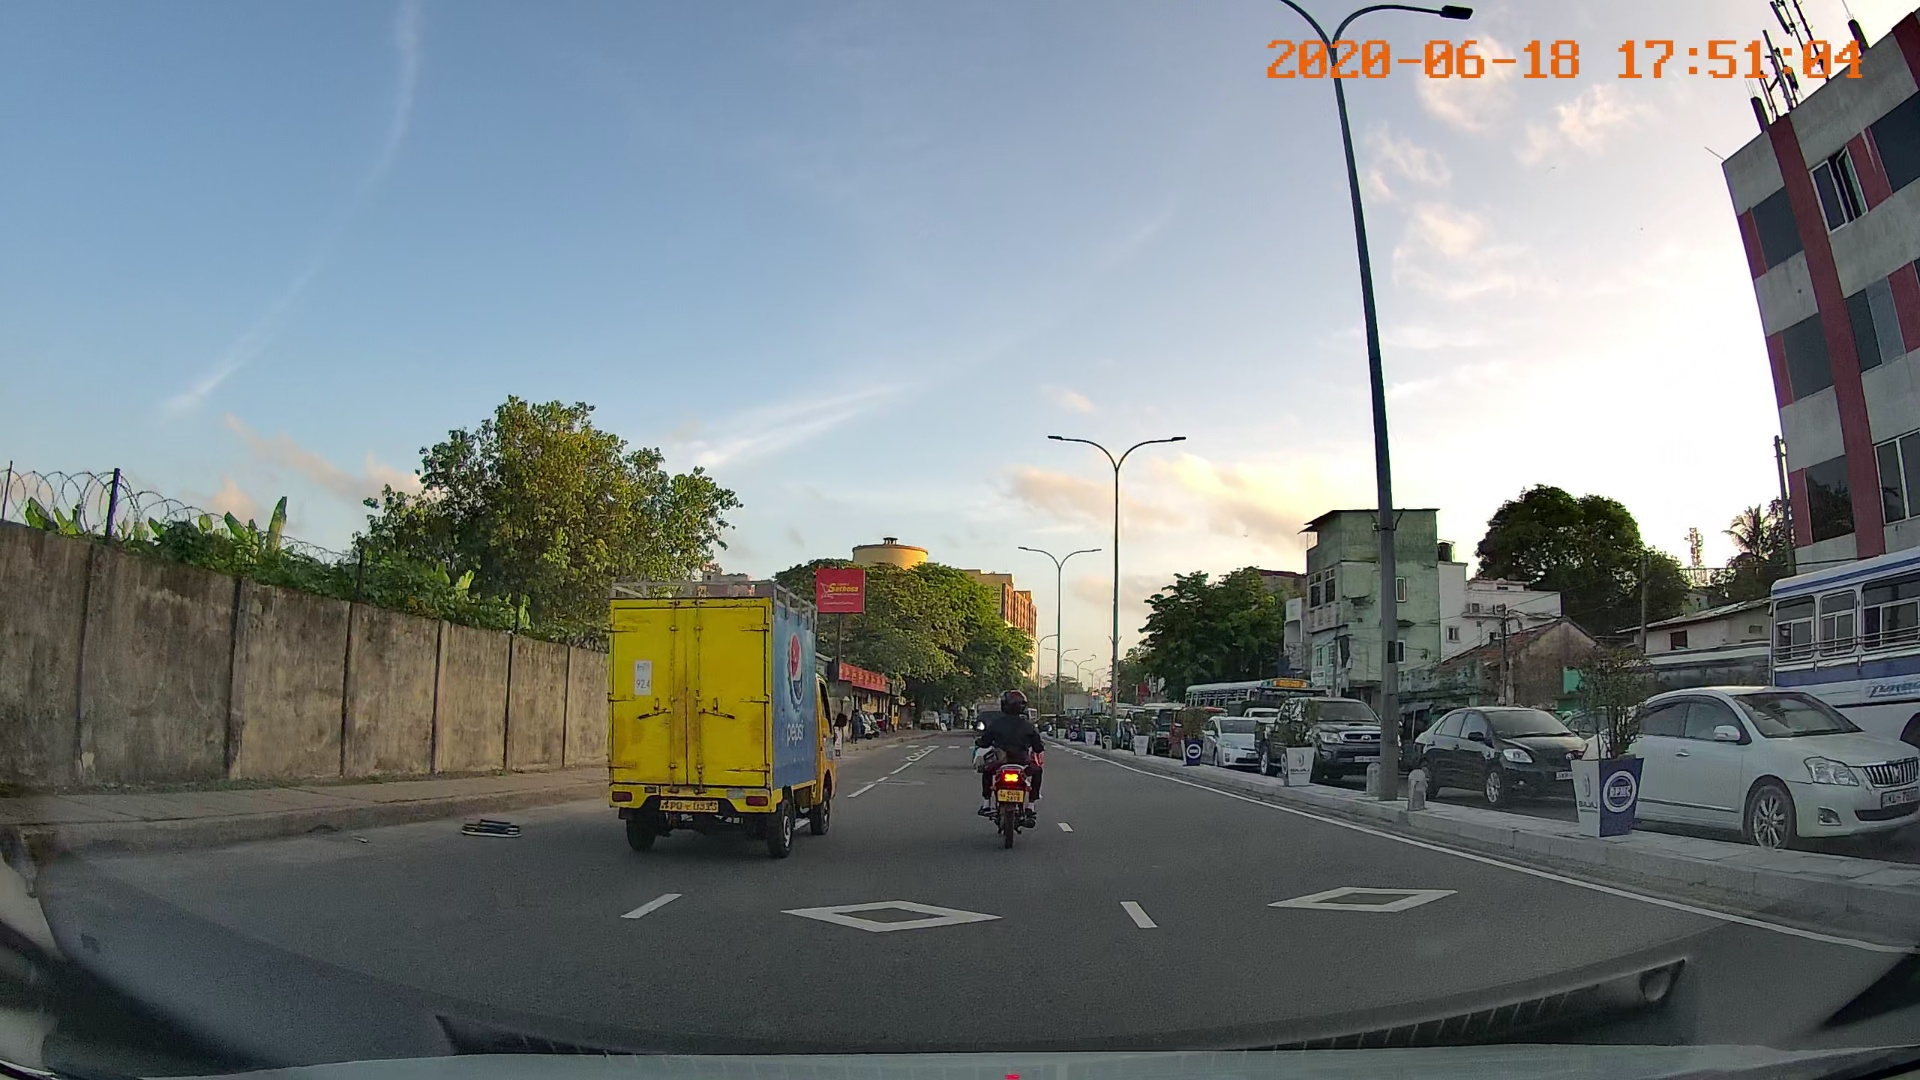diamond: (781, 880, 1013, 943), (1262, 880, 1472, 918)
